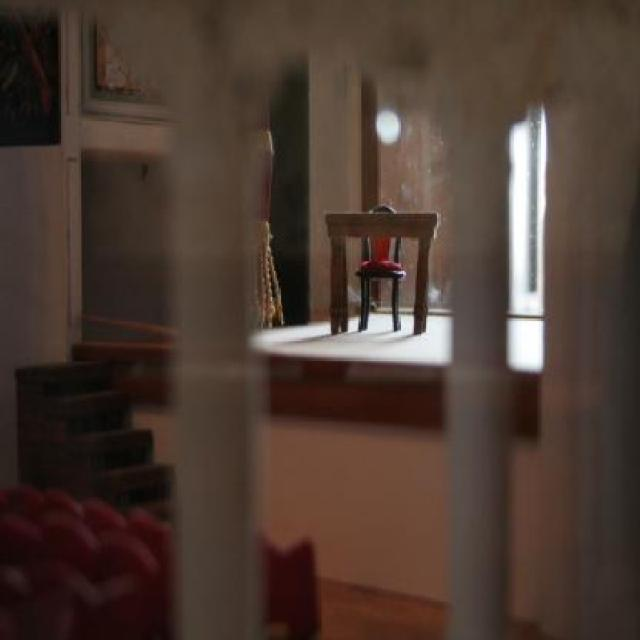stair: (13, 362, 178, 524)
